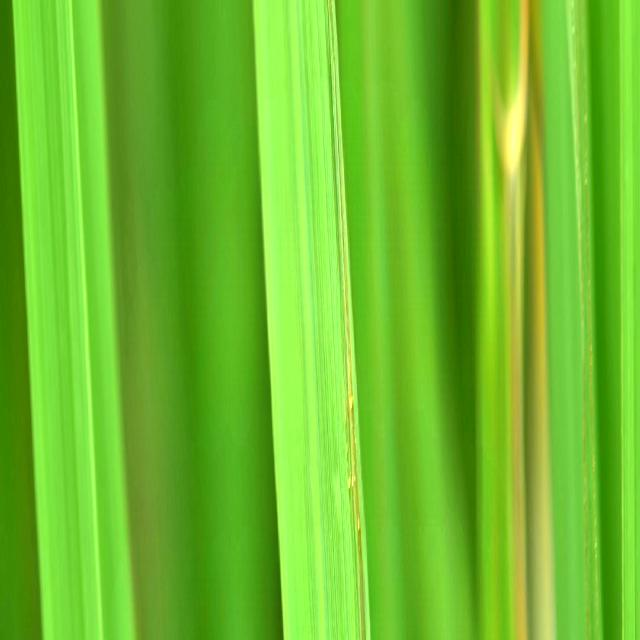BLS: (335, 109, 366, 640), (331, 0, 335, 68)
